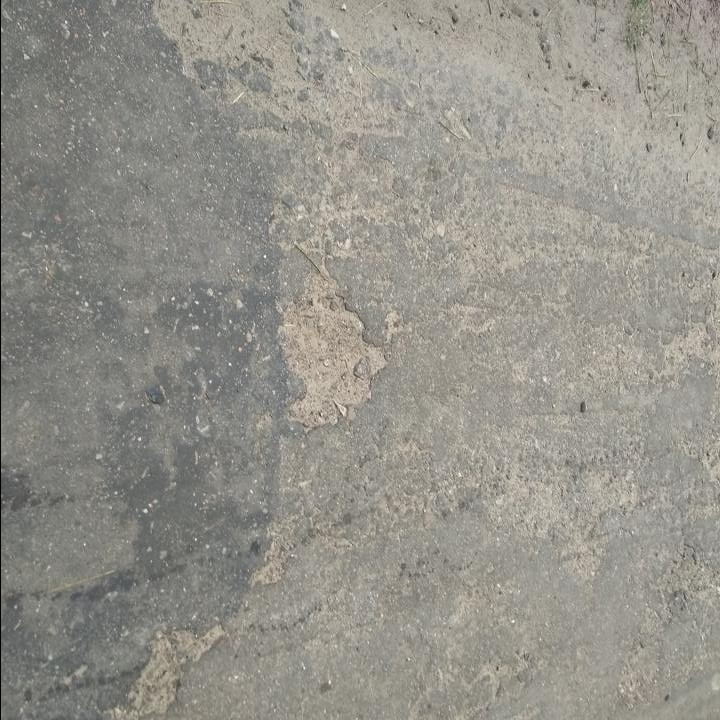pothole: (277, 289, 394, 435), (131, 636, 180, 719)
